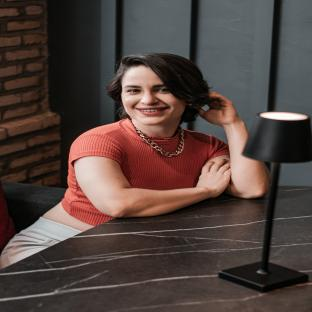Human: (0, 53, 270, 267), (0, 54, 270, 267)
